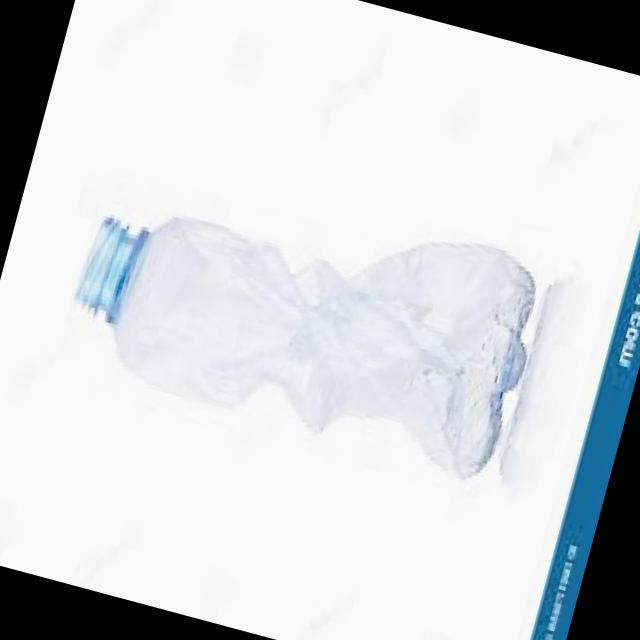defected: (28, 116, 560, 520)
